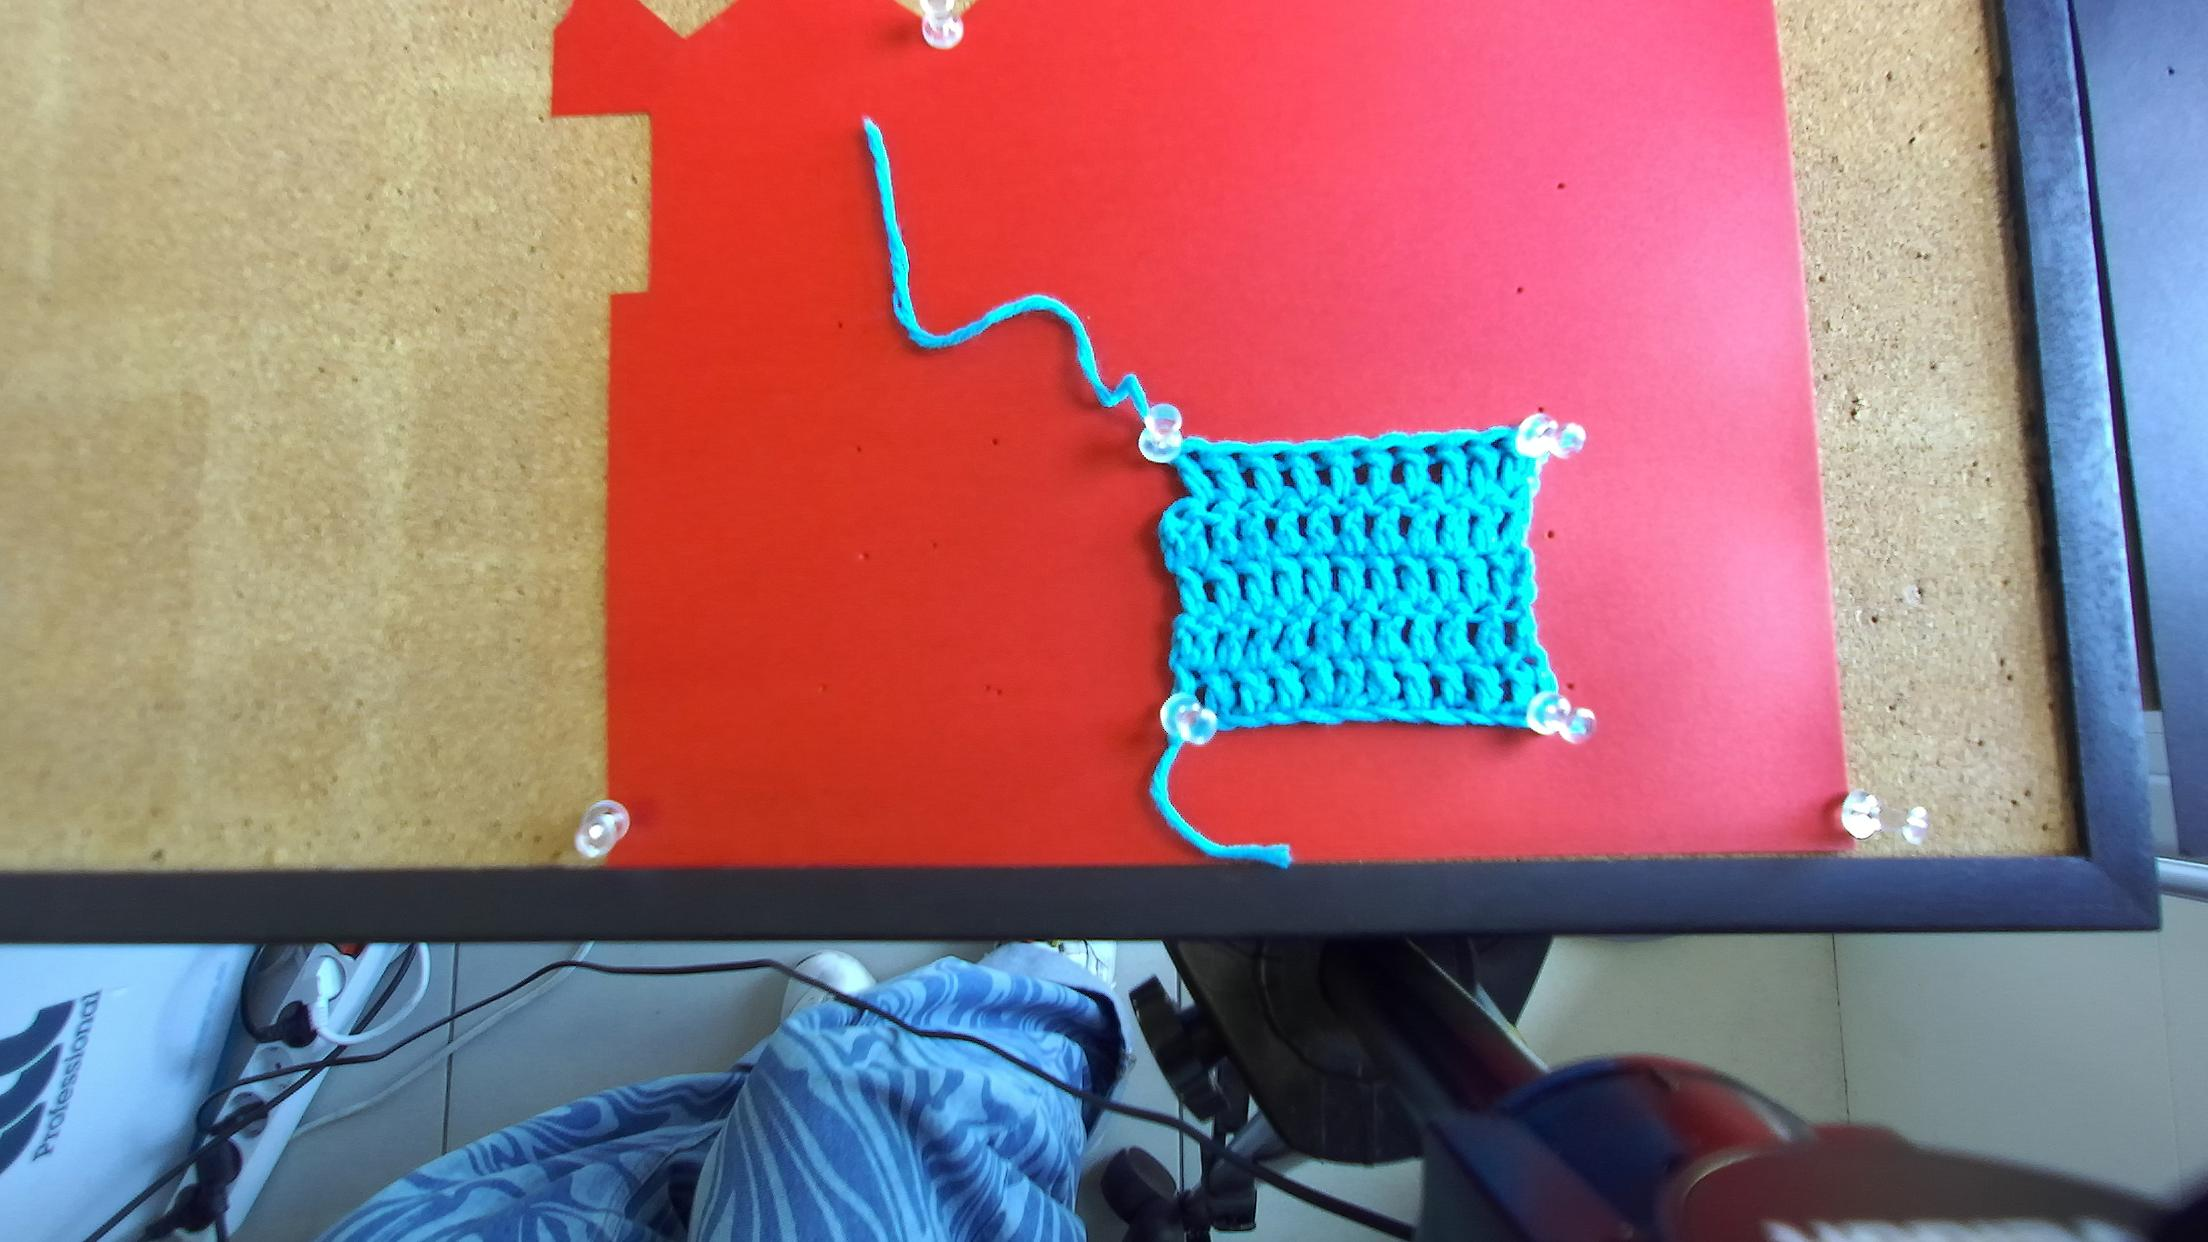hole: (1457, 437, 1477, 455), (1419, 444, 1439, 458), (1489, 437, 1507, 450), (1382, 444, 1401, 456), (1304, 450, 1321, 463), (1186, 450, 1200, 464), (1225, 452, 1242, 463), (1271, 452, 1286, 463), (1348, 449, 1363, 458)
swatch: (1143, 420, 1594, 749)
